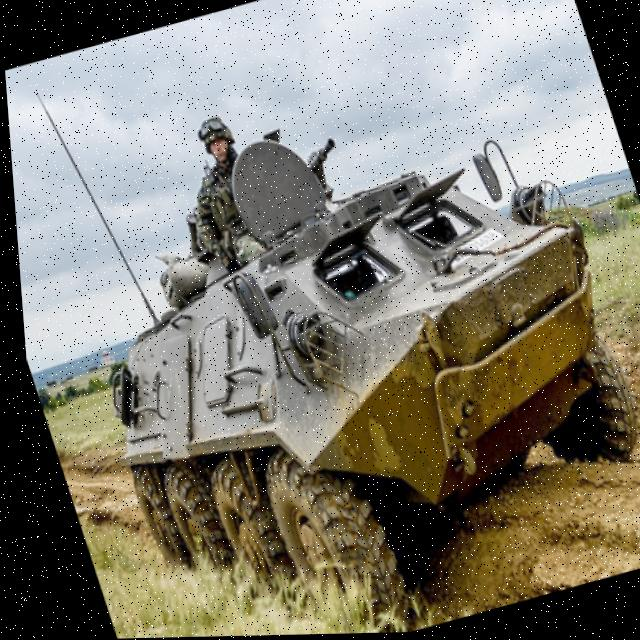MIL_APC: (6, 97, 640, 640)
